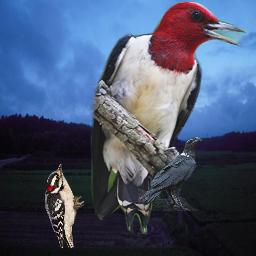Crow: (138, 136, 203, 211)
Woodpecker: (85, 2, 252, 234), (45, 164, 84, 248)
